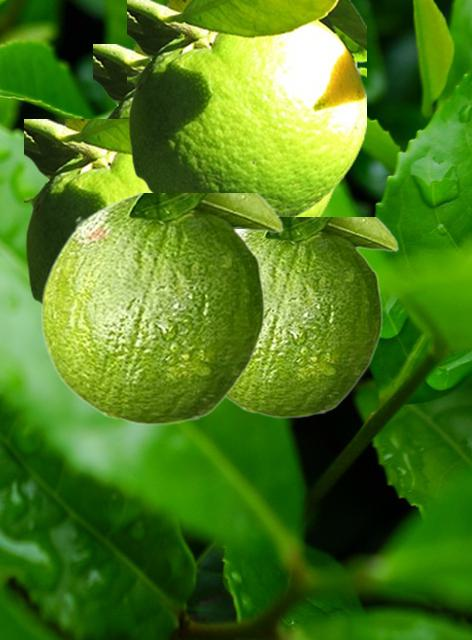dalandan: (40, 193, 283, 424), (127, 0, 365, 216), (93, 44, 336, 216), (226, 217, 398, 417), (24, 119, 149, 306)
